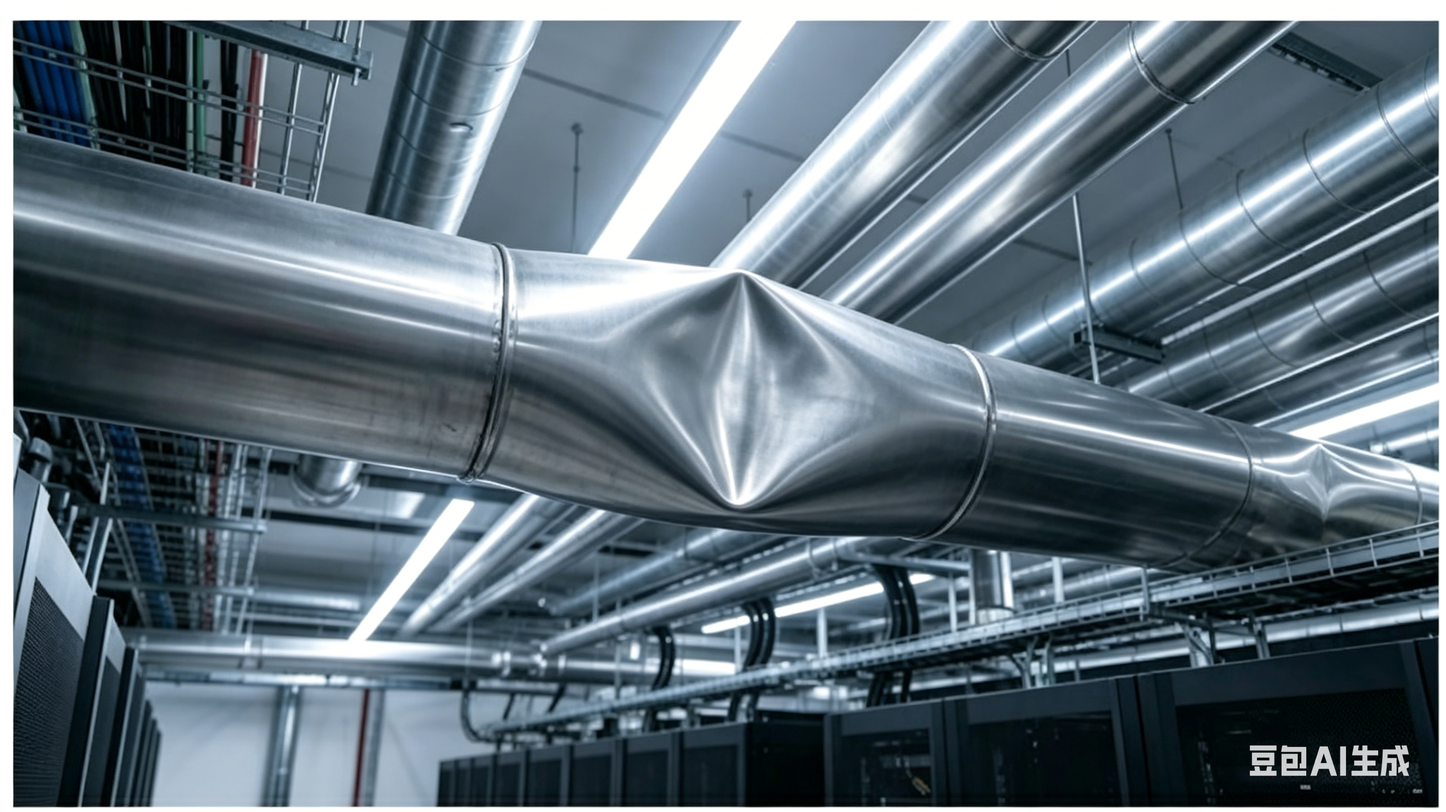Leakage: (625, 264, 876, 530), (1256, 428, 1404, 521)
